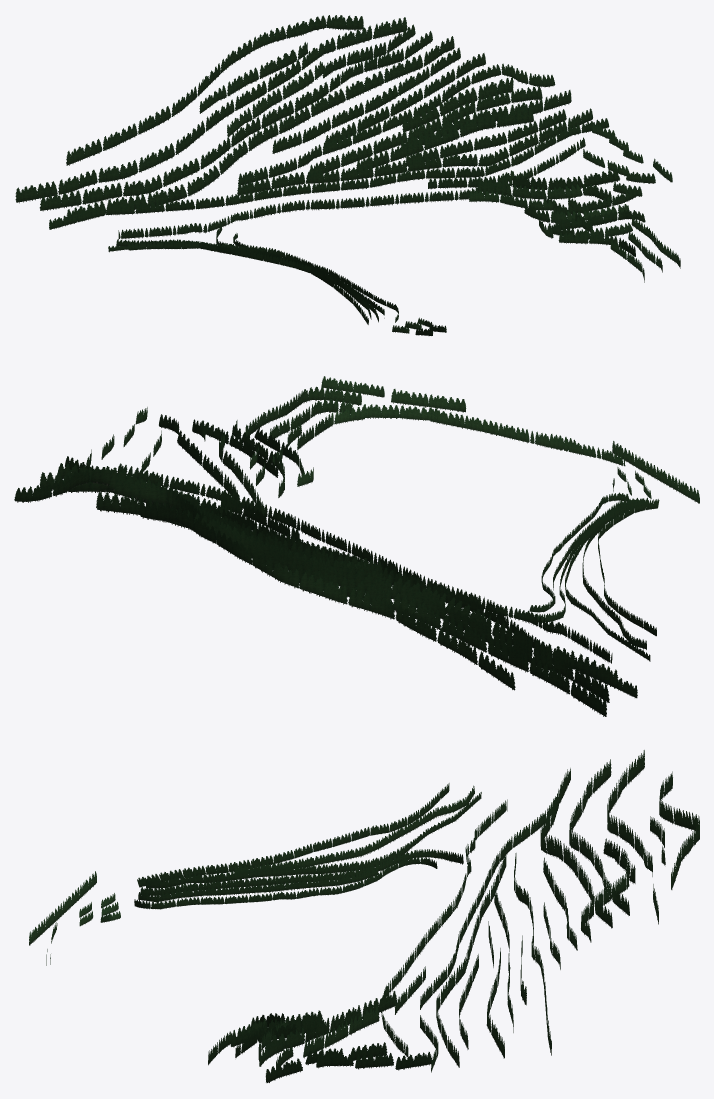
Rendered from Trees.fbx.
3 renders of one model, top to bottom at view 1: azimuth 30°, elevation 25°; view 2: azimuth 150°, elevation 25°; view 3: azimuth 270°, elevation 25°, orthographic. The views are drawn at different scales.
Parts seen in each view (by area): view 1: 00, 000, 0, 0000; view 2: 00, 000, 0000, 0; view 3: 00, 0, 000, 0000.
Boxes of the visible parts, box(x1,y1,x2,y2) form: 00: box(15, 15, 609, 239); 000: box(469, 123, 680, 282); 0: box(108, 224, 386, 324); 0000: box(386, 301, 446, 335); 00: box(14, 456, 637, 716); 000: box(86, 386, 365, 516); 0000: box(321, 376, 699, 509); 0: box(525, 497, 659, 661); 00: box(381, 750, 699, 1072); 0: box(137, 783, 481, 906); 000: box(208, 991, 431, 1082); 0000: box(29, 871, 176, 965).
Size of the model in its own units: 86475 by 20367 by 77950.
